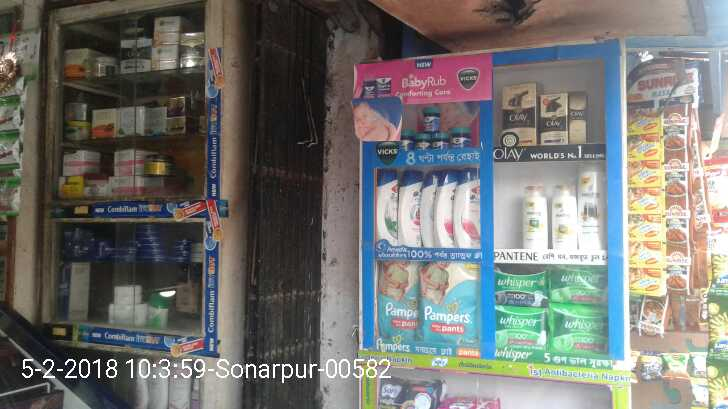vicks: (397, 104, 472, 154)
